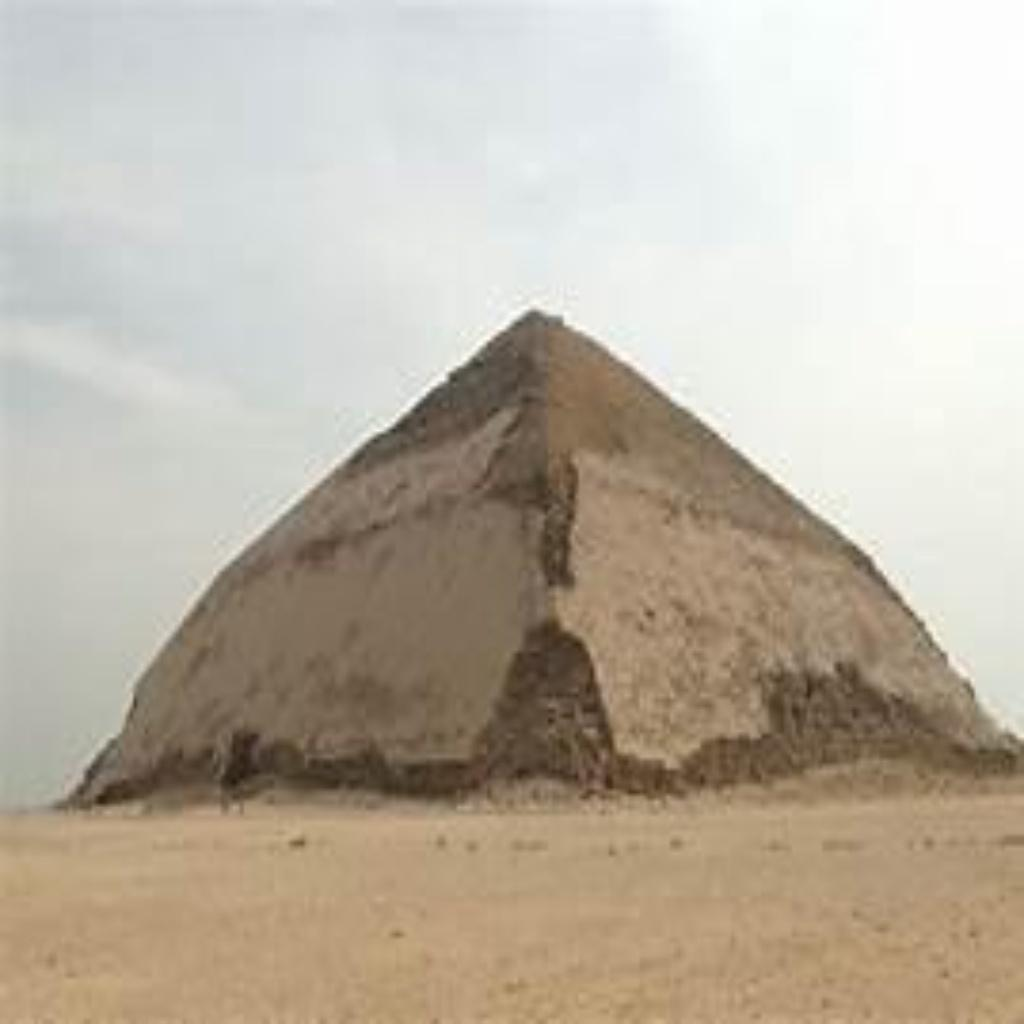Bent Pyramid of King Sneferu: (53, 296, 1020, 810)
